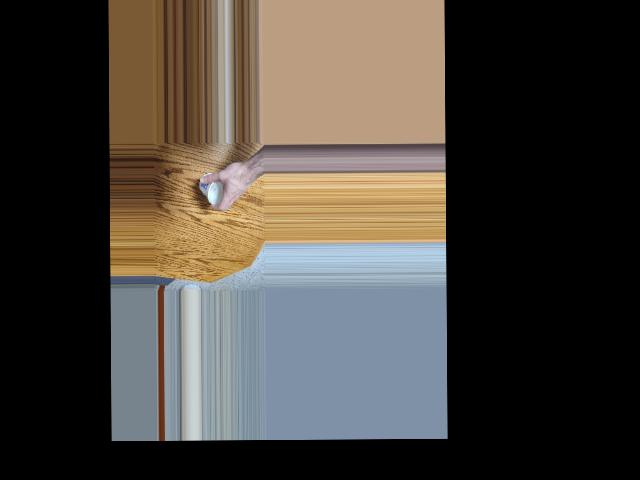cotage: (199, 169, 228, 202)
